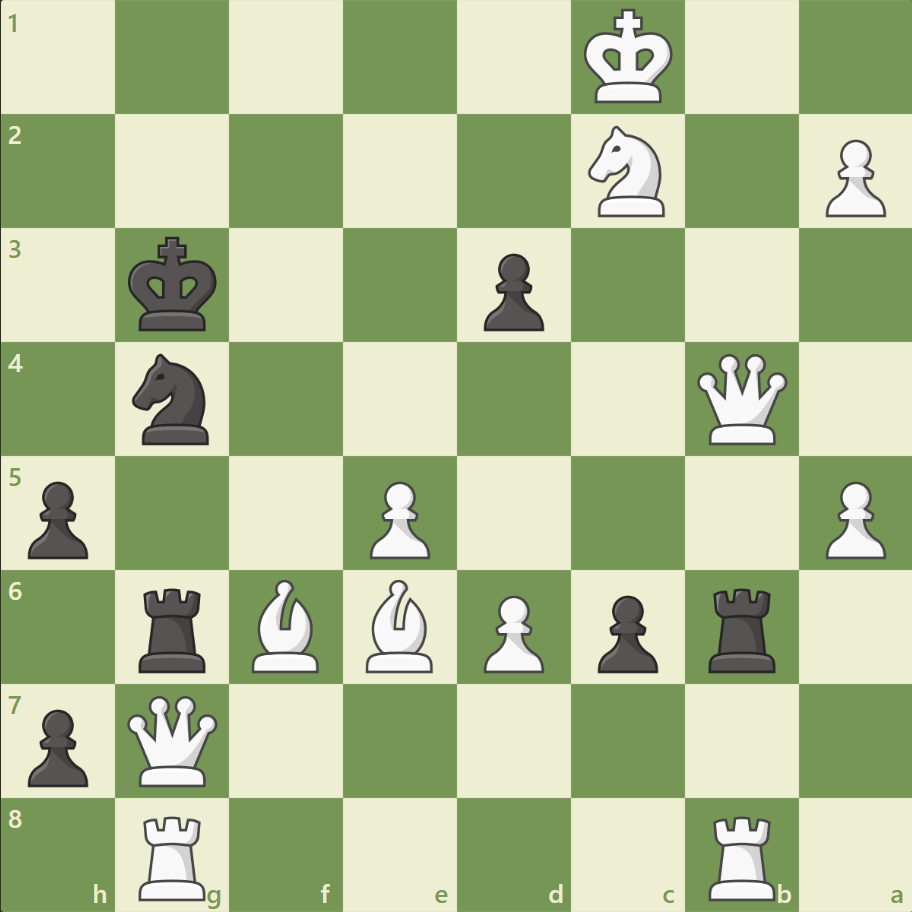B: (358, 574, 442, 676), (244, 574, 328, 676)
K: (579, 4, 679, 112)
N: (579, 121, 676, 223)
P: (474, 586, 549, 677), (815, 473, 889, 564), (361, 473, 435, 564), (815, 132, 889, 223)
Q: (691, 349, 790, 449), (124, 690, 223, 789)
R: (700, 806, 783, 904), (133, 806, 215, 904)
k: (124, 231, 224, 339)
n: (124, 348, 222, 450)
p: (20, 700, 95, 791), (20, 473, 95, 564), (474, 246, 549, 337), (588, 586, 662, 677)
r: (700, 579, 783, 676), (133, 579, 215, 676)
